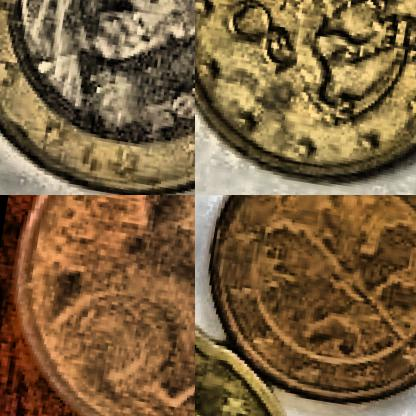coin: (195, 195, 415, 413), (195, 0, 415, 194), (0, 195, 194, 415), (0, 0, 194, 194)
